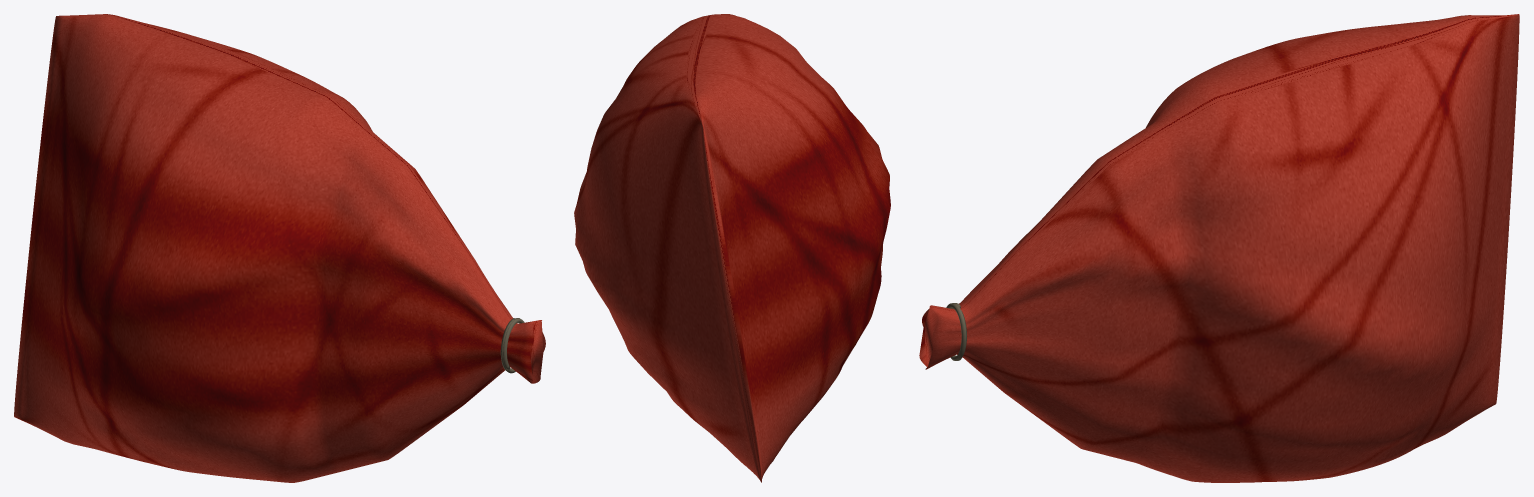
Rendered from peach_01_022.glb.
3 views of the same model, side by side, from view 1: azimuth 30°, elevation 25°; view 2: azimuth 150°, elevation 25°; view 3: azimuth 270°, elevation 25° (orthographic). The views are drawn at different scales.
Parts seen in each view (by area): view 1: export_Tree01/shoot1_4_1/bag; view 2: export_Tree01/shoot1_4_1/bag; view 3: export_Tree01/shoot1_4_1/bag.
Part boxes in pixels (left/top/right/bottom): export_Tree01/shoot1_4_1/bag: left=14, top=14, right=545, bottom=482; export_Tree01/shoot1_4_1/bag: left=574, top=14, right=890, bottom=482; export_Tree01/shoot1_4_1/bag: left=919, top=14, right=1519, bottom=482.
Bounding box in the file's own units: 0.0869 × 0.1113 × 0.1364.
4 materials, 1 textured.
